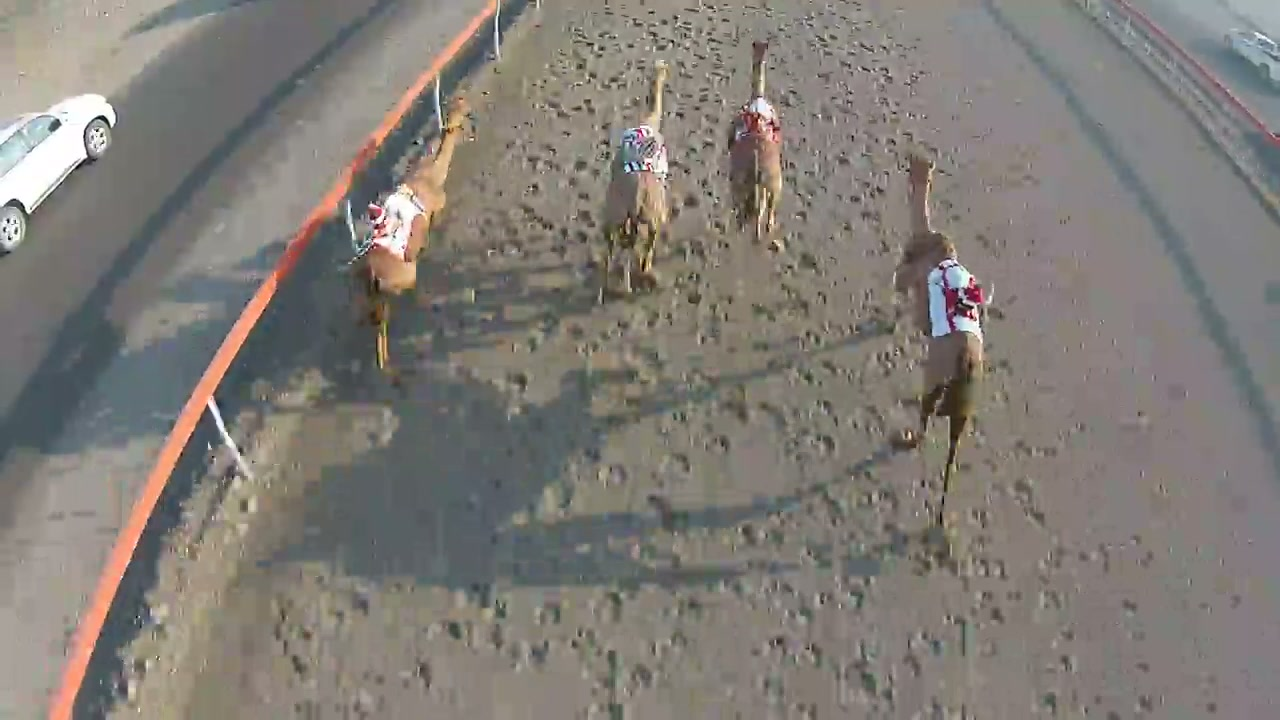animal_footprint: (424, 28, 1035, 708)
